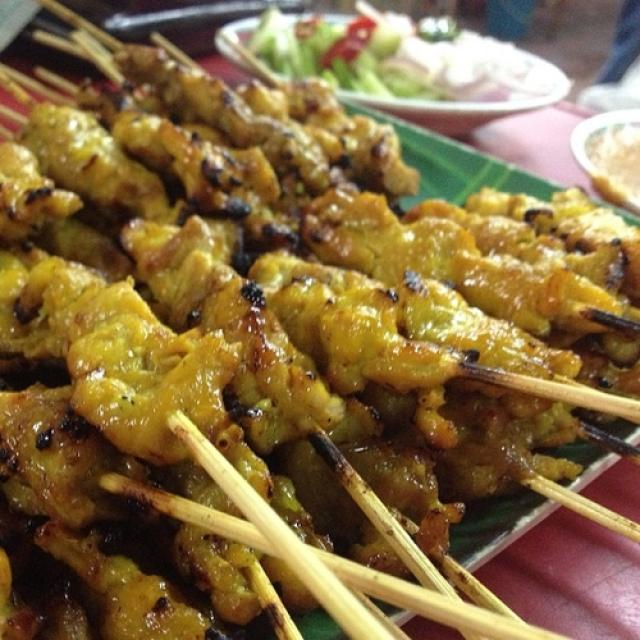牛肉菜式: (12, 47, 606, 618)
